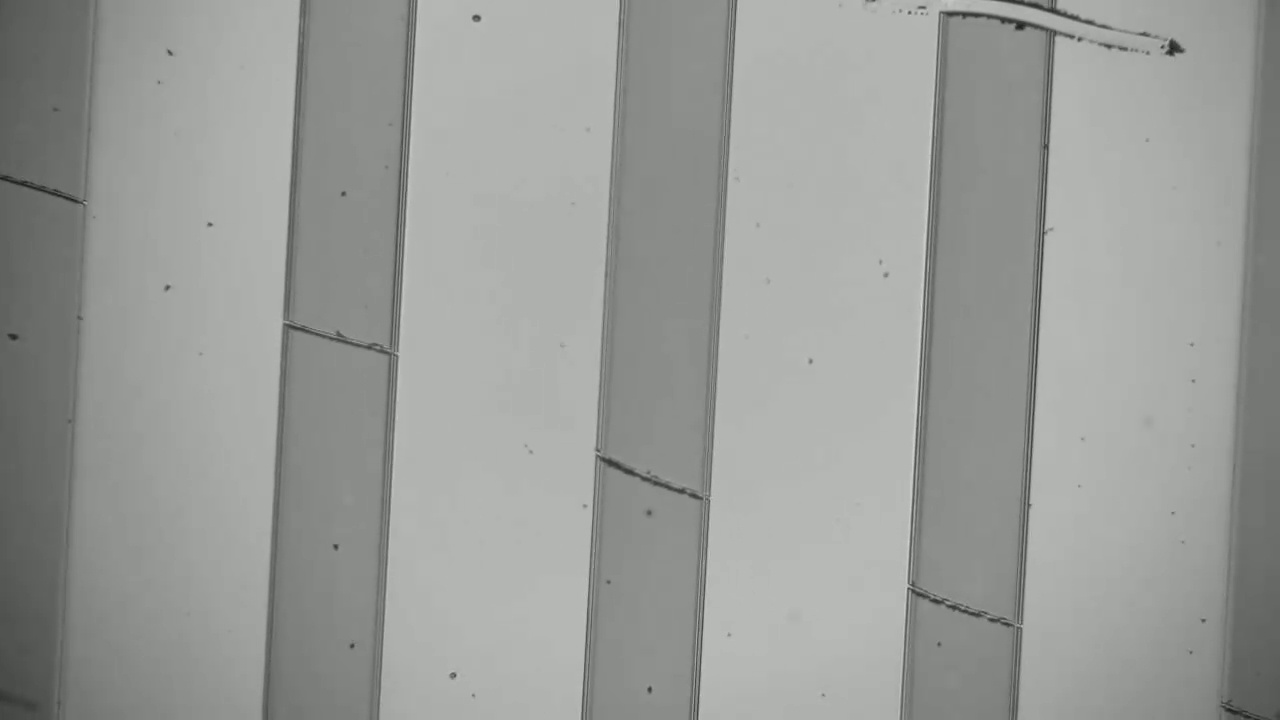Short_circuit: (902, 0, 1073, 62), (610, 459, 695, 512), (291, 318, 382, 367), (916, 592, 1009, 630), (2, 168, 78, 211)
